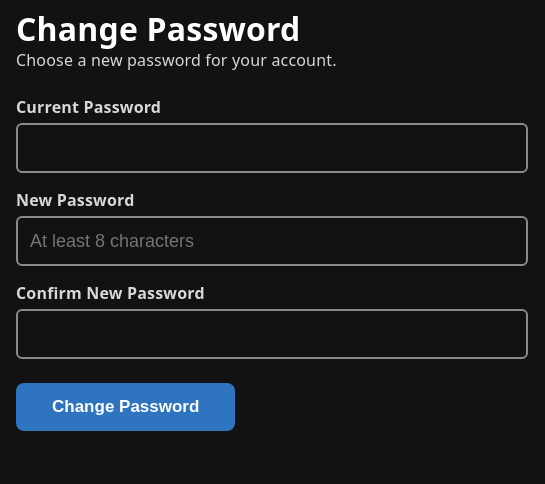
it: ChangePasswordScreen errors (spec 016) › marks and focuses the right field when the new password is not confirmed
In the password field labelled "Current Password": point(272, 148) [16,123,528,173], type "old-secret"
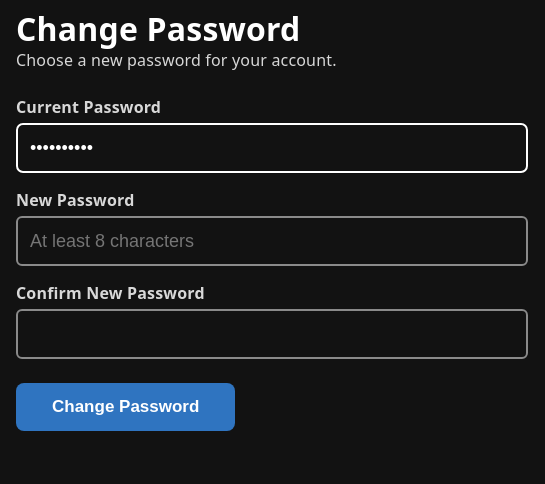
In the password field labelled "New Password": point(272, 241) [16,216,528,266], type "new-secret"
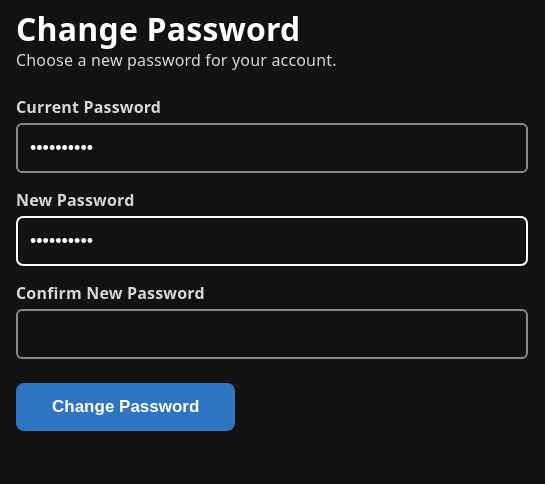
In the password field labelled "Confirm New Password": point(272, 334) [16,310,528,360], type "new-secrex"
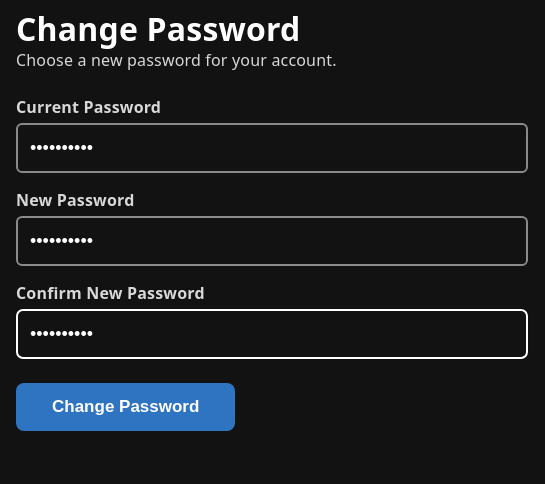
Click the button "Change Password": point(126, 408) [16,384,235,432]
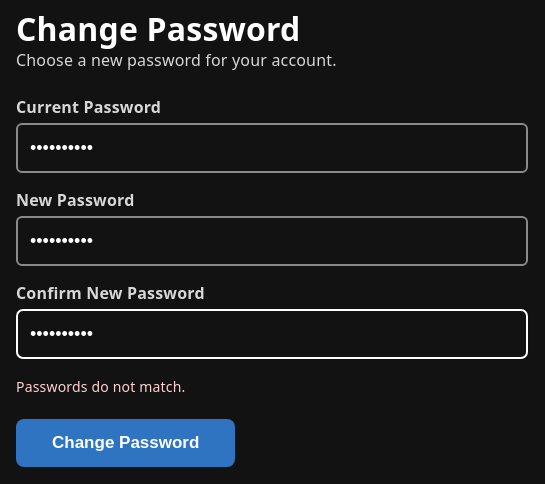
Now the message "Passwords do not match." is shown, box [16,378,186,396]
